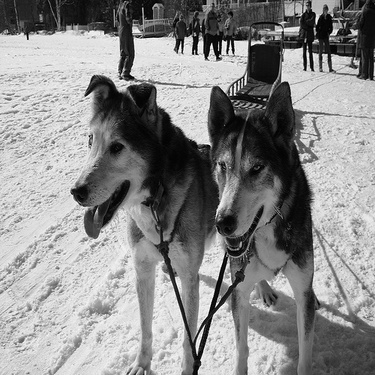dog: (37, 61, 227, 372), (183, 72, 334, 372)
